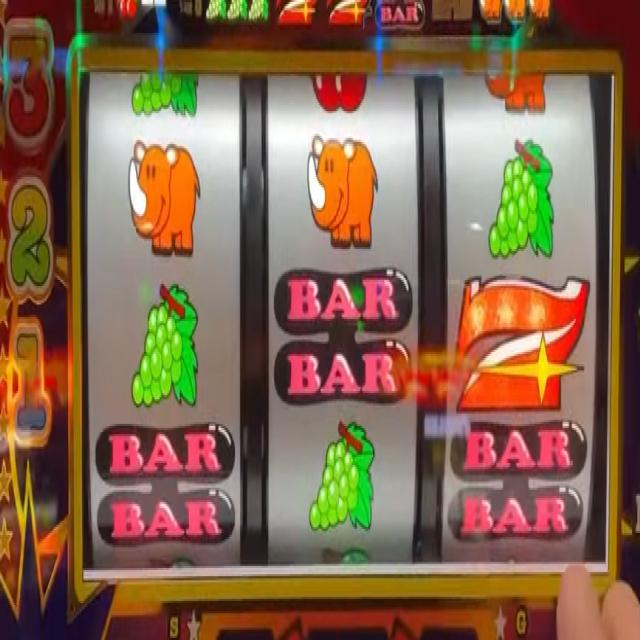bar: (274, 265, 412, 401), (92, 415, 236, 543), (448, 421, 586, 542), (376, 0, 424, 27)
cherry: (311, 68, 368, 110), (119, 0, 136, 18)
display: (78, 64, 612, 571)
elephant: (129, 139, 198, 257), (309, 130, 378, 246), (485, 70, 548, 113), (530, 0, 550, 26), (480, 0, 501, 21), (503, 0, 526, 19)
grape: (131, 284, 200, 412), (488, 140, 556, 259), (309, 419, 376, 529), (132, 66, 201, 118), (226, 0, 248, 26), (206, 0, 227, 27), (249, 0, 268, 27)
z: (455, 274, 588, 414), (327, 0, 369, 28), (277, 0, 315, 26)
